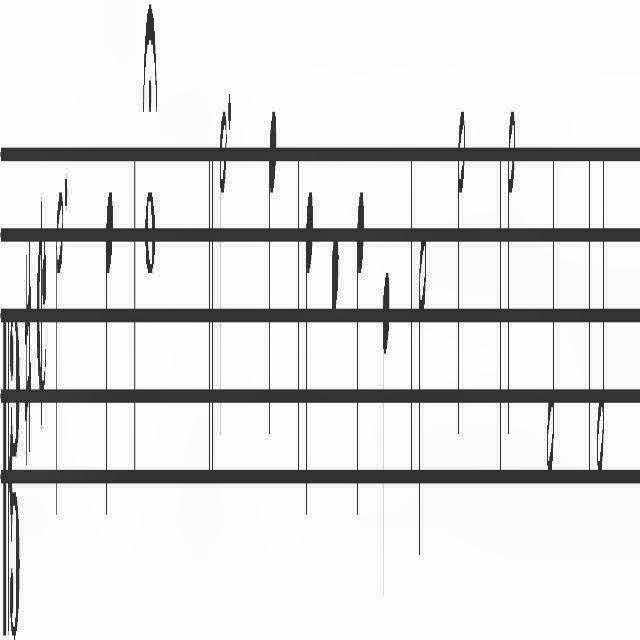Diez: (22, 220, 34, 510)
Full-note: (144, 164, 158, 316)
Half-note: (544, 133, 560, 495), (51, 136, 63, 566), (506, 63, 518, 487), (456, 63, 468, 480), (596, 126, 608, 514), (418, 230, 430, 608), (218, 74, 226, 476)
Quarter-note: (354, 116, 366, 568), (101, 181, 115, 555), (266, 90, 278, 472), (330, 192, 340, 608), (381, 217, 392, 566), (304, 168, 314, 540)
